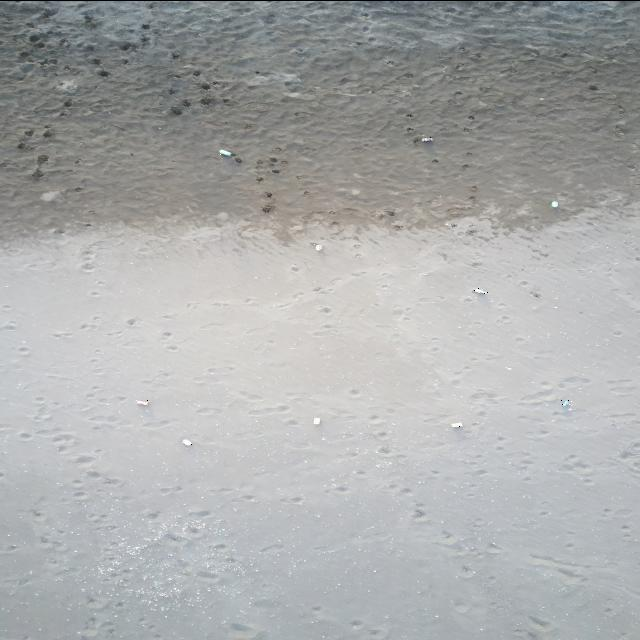Garbage: (57, 79, 76, 91), (41, 191, 60, 200), (169, 104, 180, 115), (220, 148, 232, 156), (472, 287, 487, 293), (560, 399, 571, 407), (420, 136, 432, 143), (313, 243, 323, 251), (181, 439, 192, 446), (312, 416, 320, 424), (451, 422, 462, 427), (136, 400, 148, 404), (551, 200, 557, 207), (233, 157, 240, 163)
